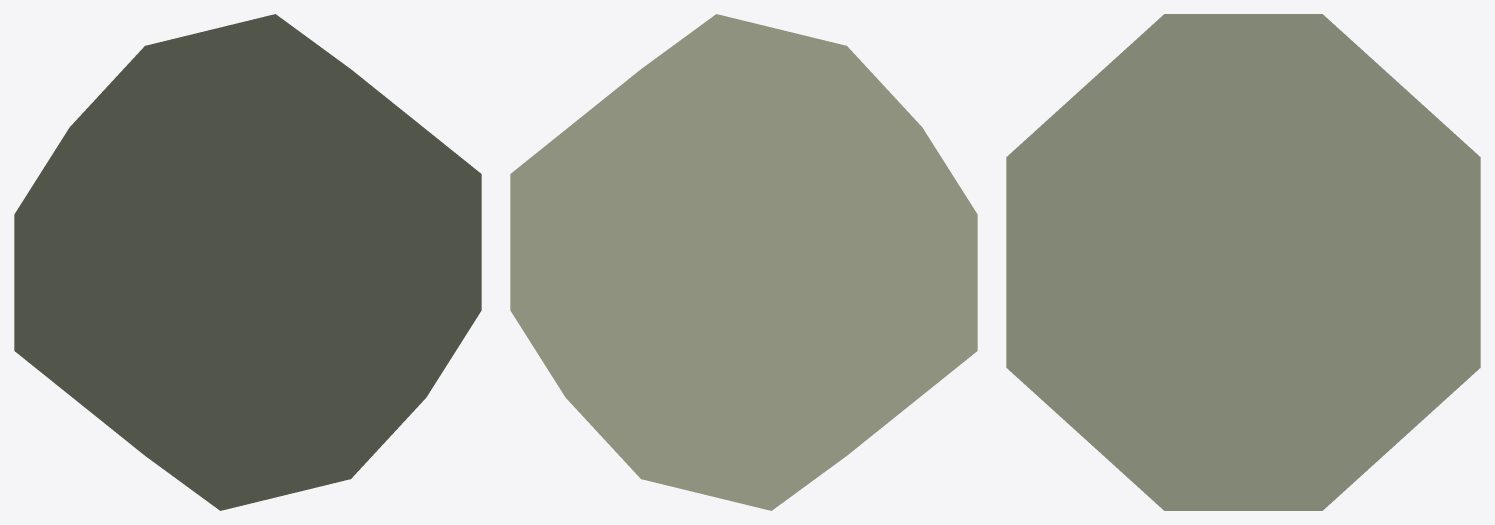
File: octotad.dae
3 views of the same model, side by side, from view 1: azimuth 30°, elevation 25°; view 2: azimuth 150°, elevation 25°; view 3: azimuth 270°, elevation 25° (orthographic). The views are drawn at different scales.
Visible parts, largest first — view 1: octotoad9-0; view 2: octotoad9-0; view 3: octotoad9-0.
Boxes of the visible parts, x1,y1,x2,y2 form: octotoad9-0: [14, 14, 481, 510]; octotoad9-0: [510, 14, 977, 510]; octotoad9-0: [1006, 14, 1480, 510].
Size of the model in its own units: 3.34 by 3.34 by 3.34.
